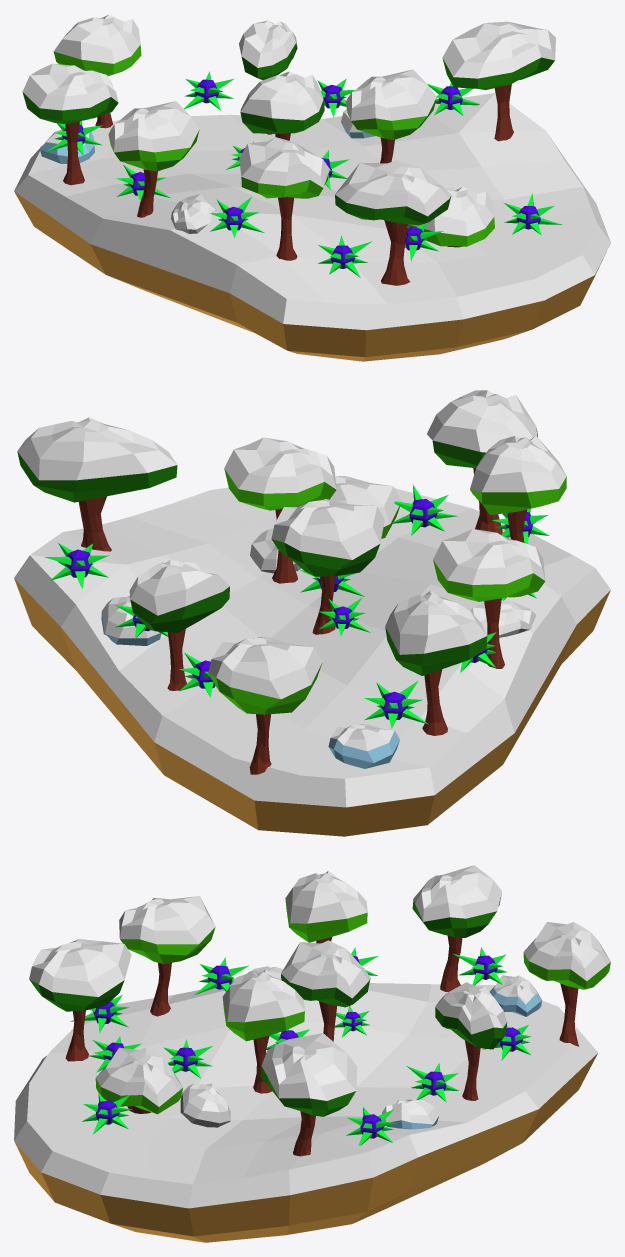
The model's file is FrostIsland.fbx.
The picture shows the model from 3 angles, top to bottom: view 1: azimuth 30°, elevation 25°; view 2: azimuth 150°, elevation 25°; view 3: azimuth 270°, elevation 25°; orthographic projection. The views are drawn at different scales.
Parts seen in each view (by area): view 1: Erde.001, Cylinder.018, Cylinder.015, Cylinder.019, Cylinder.002, Cylinder.017, Cylinder.003, Cylinder.013, Cylinder.016, Cylinder.014, Cylinder.020, Cylinder.024 (+10 smaller); view 2: Erde.001, Cylinder.018, Cylinder.016, Cylinder.013, Cylinder.017, Cylinder.019, Cylinder.003, Cylinder.020, Cylinder.002, Cylinder.015, Cylinder.021, Cylinder.014 (+9 smaller); view 3: Erde.001, Cylinder.018, Cylinder.015, Cylinder.002, Cylinder.019, Cylinder.016, Cylinder.003, Cylinder.013, Cylinder.017, Cylinder.014, Cylinder.020, Cylinder.023 (+12 smaller).
Boxes of the visible parts, left/top/right/bottom form: Erde.001: left=14, top=93, right=610, bottom=361; Cylinder.018: left=442, top=21, right=555, bottom=141; Cylinder.015: left=335, top=160, right=451, bottom=285; Cylinder.019: left=22, top=63, right=118, bottom=185; Cylinder.002: left=239, top=137, right=329, bottom=260; Cylinder.017: left=108, top=101, right=199, bottom=217; Cylinder.003: left=345, top=69, right=436, bottom=163; Cylinder.013: left=240, top=71, right=324, bottom=140; Cylinder.016: left=53, top=14, right=141, bottom=128; Cylinder.014: left=408, top=187, right=494, bottom=247; Cylinder.020: left=239, top=20, right=297, bottom=134; Cylinder.024: left=171, top=194, right=215, bottom=233; Erde.001: left=14, top=487, right=610, bottom=836; Cylinder.018: left=17, top=417, right=177, bottom=551; Cylinder.016: left=208, top=637, right=322, bottom=774; Cylinder.013: left=271, top=499, right=384, bottom=634; Cylinder.017: left=433, top=529, right=545, bottom=668; Cylinder.019: left=385, top=591, right=487, bottom=735; Cylinder.003: left=224, top=437, right=336, bottom=583; Cylinder.020: left=129, top=560, right=229, bottom=690; Cylinder.002: left=470, top=435, right=566, bottom=542; Cylinder.015: left=427, top=390, right=537, bottom=534; Cylinder.021: left=328, top=724, right=399, bottom=768; Cylinder.014: left=294, top=476, right=401, bottom=538; Erde.001: left=14, top=983, right=597, bottom=1242; Cylinder.018: left=260, top=1033, right=357, bottom=1156; Cylinder.015: left=29, top=939, right=131, bottom=1061; Cylinder.002: left=119, top=896, right=215, bottom=1016; Cylinder.019: left=412, top=865, right=501, bottom=992; Cylinder.016: left=523, top=922, right=610, bottom=1046; Cylinder.003: left=222, top=969, right=304, bottom=1093; Cylinder.013: left=281, top=940, right=370, bottom=1041; Cylinder.017: left=285, top=871, right=367, bottom=943; Cylinder.014: left=95, top=1047, right=182, bottom=1114; Cylinder.020: left=435, top=982, right=507, bottom=1100; Cylinder.023: left=180, top=1083, right=230, bottom=1127.
Bounding box in the file's own units: 2309 × 1020 × 2588.
